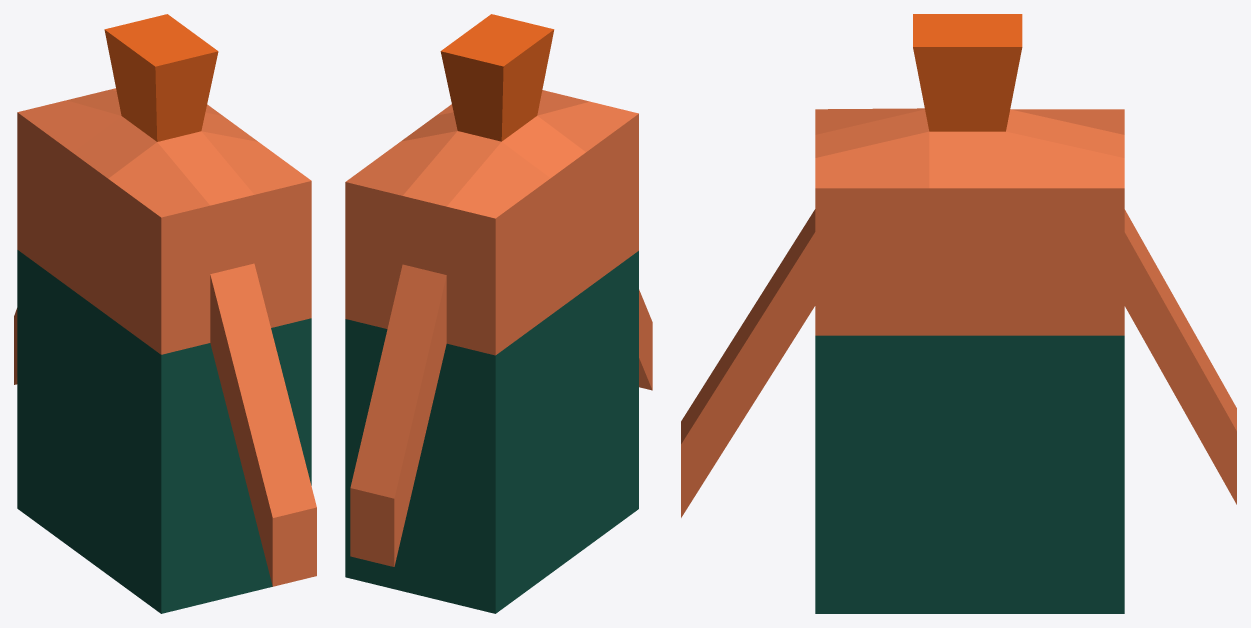
The model's file is Enemy.fbx.
The picture shows the model from 3 angles, left to right: view 1: azimuth 30°, elevation 25°; view 2: azimuth 150°, elevation 25°; view 3: azimuth 270°, elevation 25°; orthographic projection. The views are drawn at different scales.
Visible parts, largest first — view 1: Cube; view 2: Cube; view 3: Cube.
Boxes of the visible parts, box(x1,y1,x2,y2) form: Cube: box(14, 14, 316, 613); Cube: box(345, 14, 652, 613); Cube: box(681, 14, 1236, 613).
Size of the model in its own units: 259 by 828 by 770.
